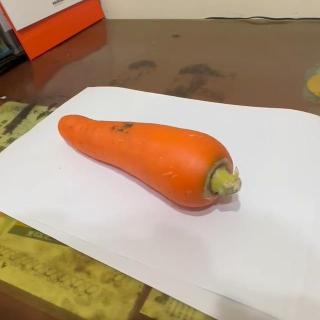carrot: (58, 114, 240, 210)
